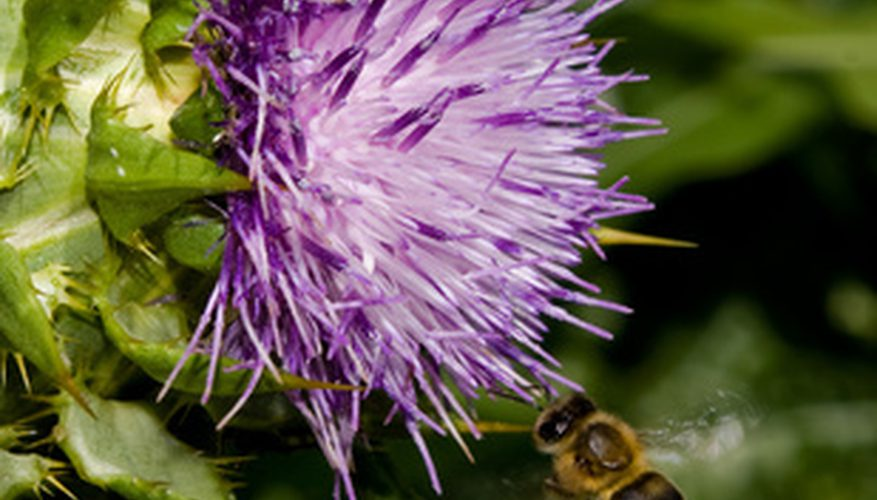thistle: (176, 7, 700, 441)
